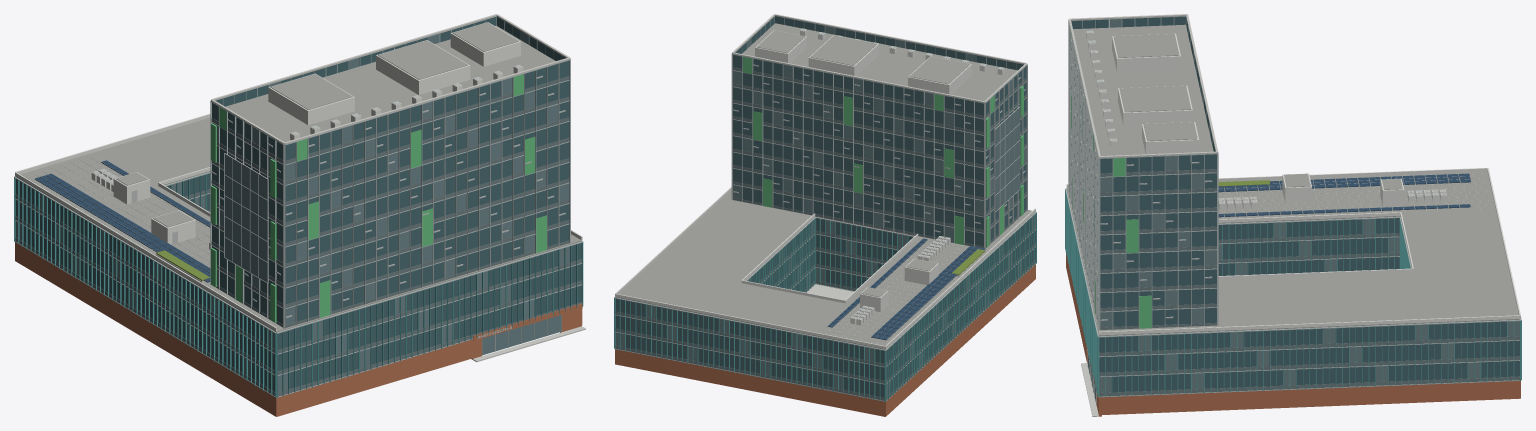
The model's file is seu_biomedical_south_high_v03.glb.
3 views of the same model, side by side, from view 1: azimuth 30°, elevation 25°; view 2: azimuth 150°, elevation 25°; view 3: azimuth 270°, elevation 25° (orthographic). The views are drawn at different scales.
Parts seen in each view (by area): view 1: SEU_B_OSMWAY_1056927537__0002, SEU_B_OSMWAY_1056927537__0001, SEU_B_OSMWAY_1056927537__0006, SEU_B_OSMWAY_1056927537__0003, SEU_B_OSMWAY_1056927537__0005, SEU_B_OSMWAY_1056927537__0004, SEU_B_OSMWAY_1056927537__0007; view 2: SEU_B_OSMWAY_1056927537__0001, SEU_B_OSMWAY_1056927537__0002, SEU_B_OSMWAY_1056927537__0006, SEU_B_OSMWAY_1056927537__0004, SEU_B_OSMWAY_1056927537__0005, SEU_B_OSMWAY_1056927537__0003; view 3: SEU_B_OSMWAY_1056927537__0001, SEU_B_OSMWAY_1056927537__0002, SEU_B_OSMWAY_1056927537__0006, SEU_B_OSMWAY_1056927537__0004, SEU_B_OSMWAY_1056927537__0005, SEU_B_OSMWAY_1056927537__0007.
Boxes of the visible parts, <box> form: SEU_B_OSMWAY_1056927537__0002: <box>210,14,570,328</box>; SEU_B_OSMWAY_1056927537__0001: <box>14,118,583,416</box>; SEU_B_OSMWAY_1056927537__0006: <box>268,22,523,140</box>; SEU_B_OSMWAY_1056927537__0003: <box>211,123,276,322</box>; SEU_B_OSMWAY_1056927537__0005: <box>34,160,210,282</box>; SEU_B_OSMWAY_1056927537__0004: <box>15,113,582,331</box>; SEU_B_OSMWAY_1056927537__0007: <box>471,303,585,362</box>; SEU_B_OSMWAY_1056927537__0001: <box>614,190,1036,416</box>; SEU_B_OSMWAY_1056927537__0002: <box>731,14,1027,248</box>; SEU_B_OSMWAY_1056927537__0006: <box>755,28,1004,94</box>; SEU_B_OSMWAY_1056927537__0004: <box>615,187,1035,348</box>; SEU_B_OSMWAY_1056927537__0005: <box>827,236,985,340</box>; SEU_B_OSMWAY_1056927537__0003: <box>986,86,1023,247</box>; SEU_B_OSMWAY_1056927537__0001: <box>1065,171,1521,415</box>; SEU_B_OSMWAY_1056927537__0002: <box>1068,14,1218,330</box>; SEU_B_OSMWAY_1056927537__0006: <box>1086,30,1199,154</box>; SEU_B_OSMWAY_1056927537__0004: <box>1066,167,1520,335</box>; SEU_B_OSMWAY_1056927537__0005: <box>1218,173,1470,217</box>; SEU_B_OSMWAY_1056927537__0007: <box>1081,346,1101,416</box>.
Size of the model in its own units: 72.95 by 53.35 by 85.24.
